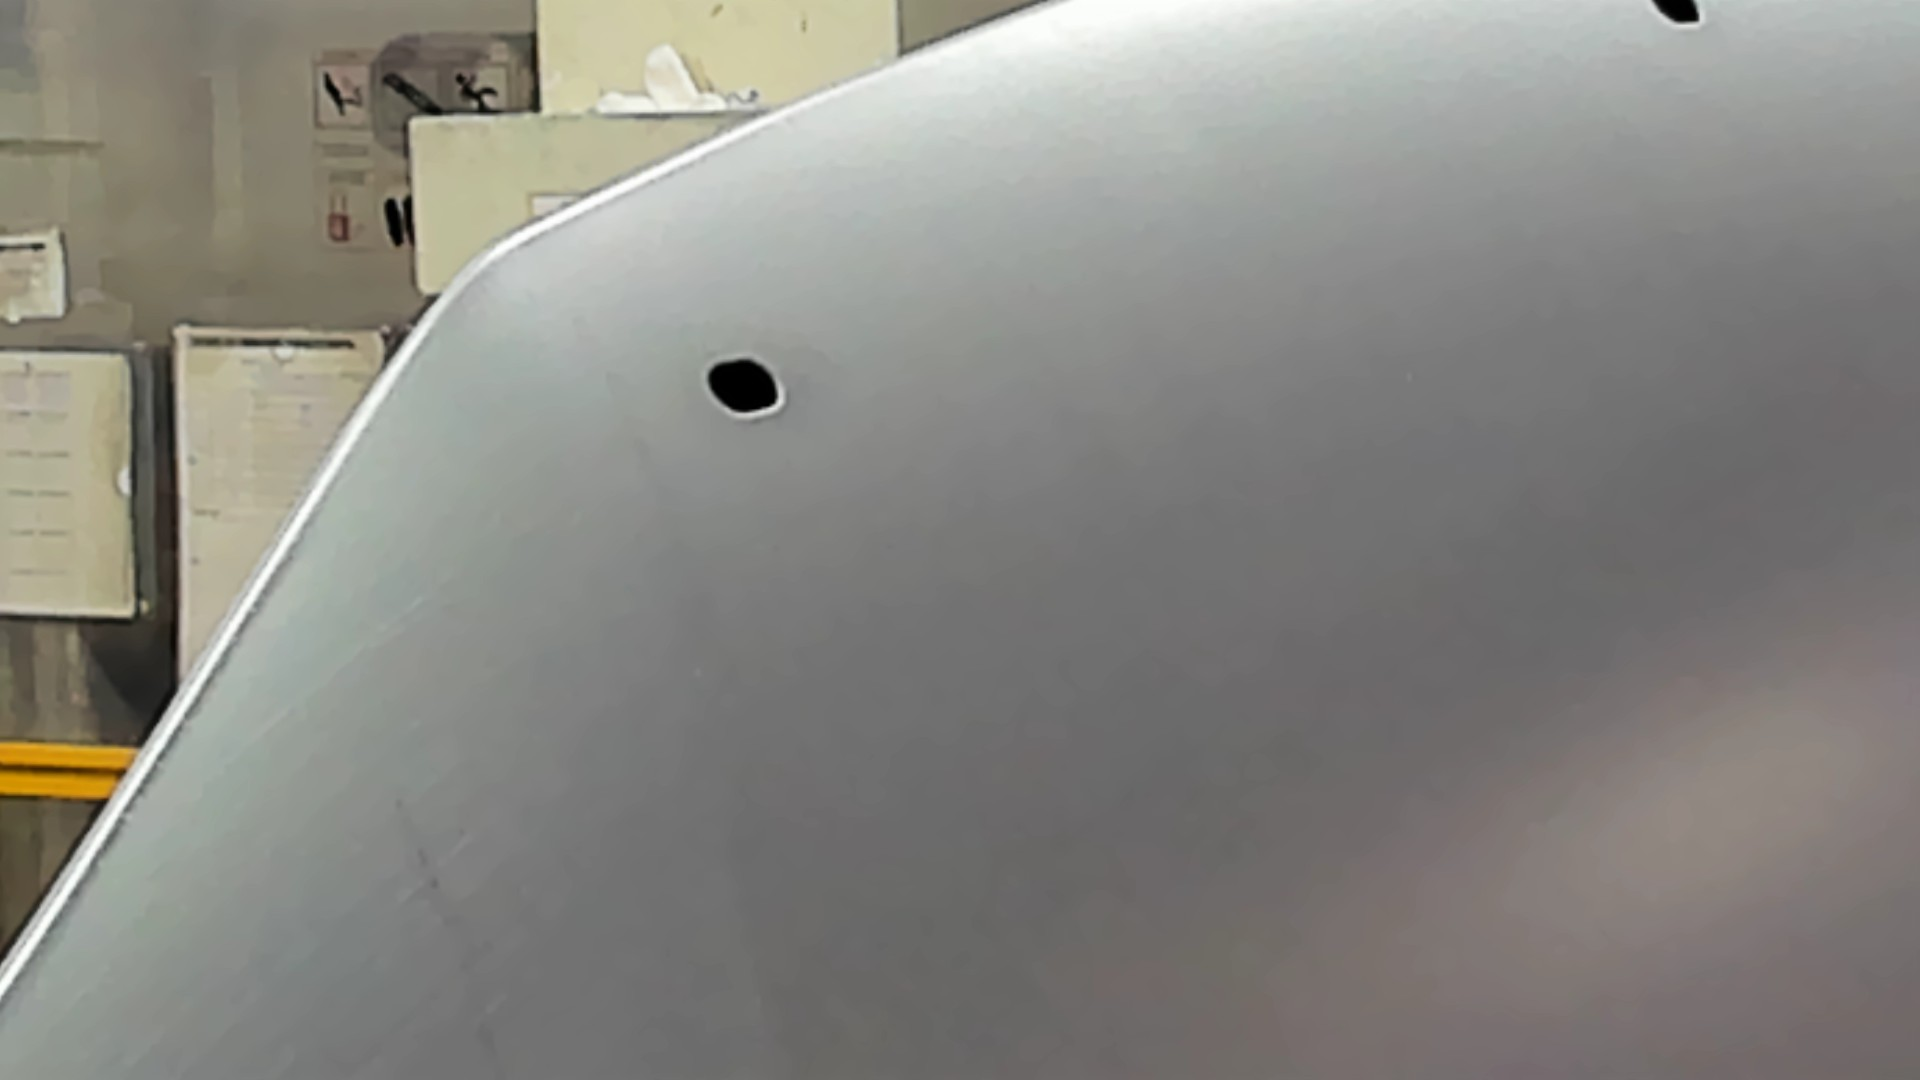amorfo: (694, 351, 796, 426), (1650, 1, 1716, 44)
capo: (865, 107, 1920, 1080)
